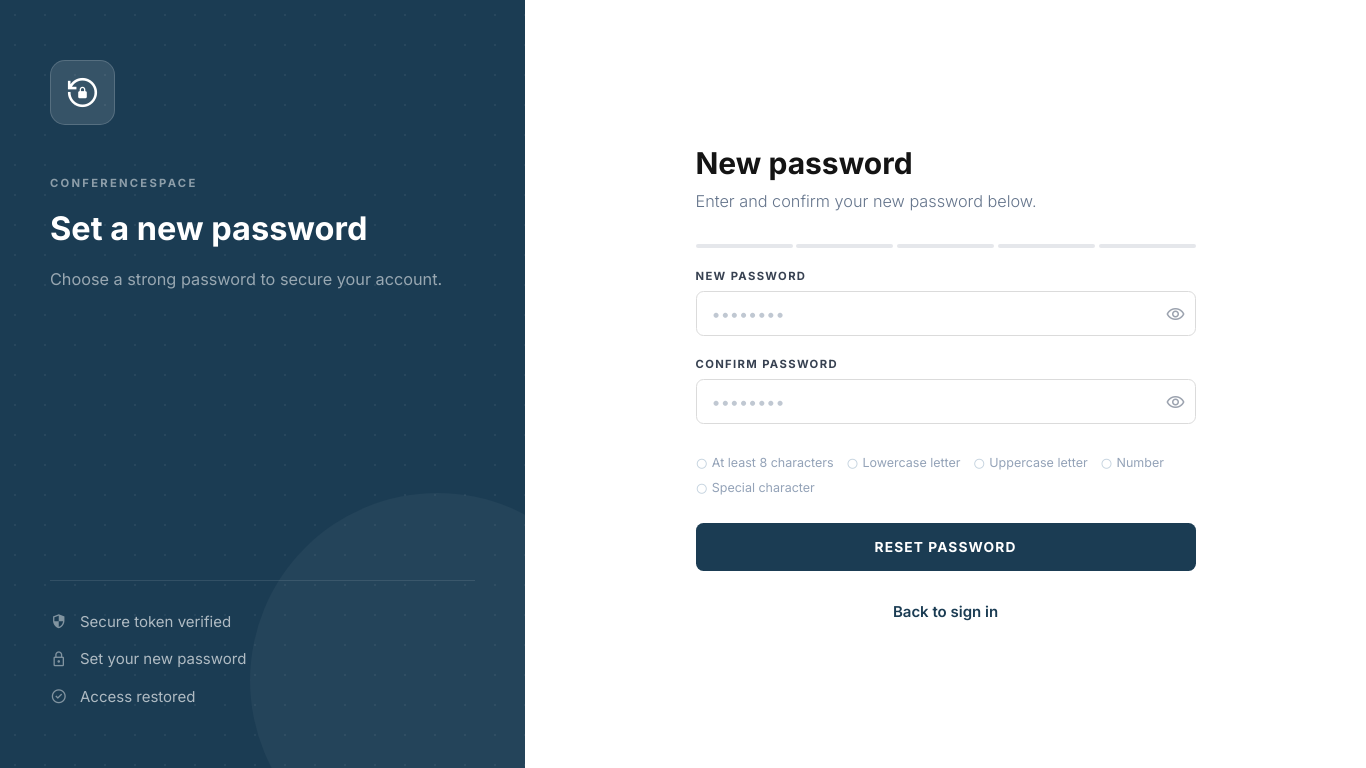
it: ResetPasswordPage › shows error when passwords do not match
Expected: the heading "New password" is shown, [696,145,913,181]
Type "StrongP@ss1" into the password field labelled "New password". click: (946, 314)
box: [696,291,1196,336]
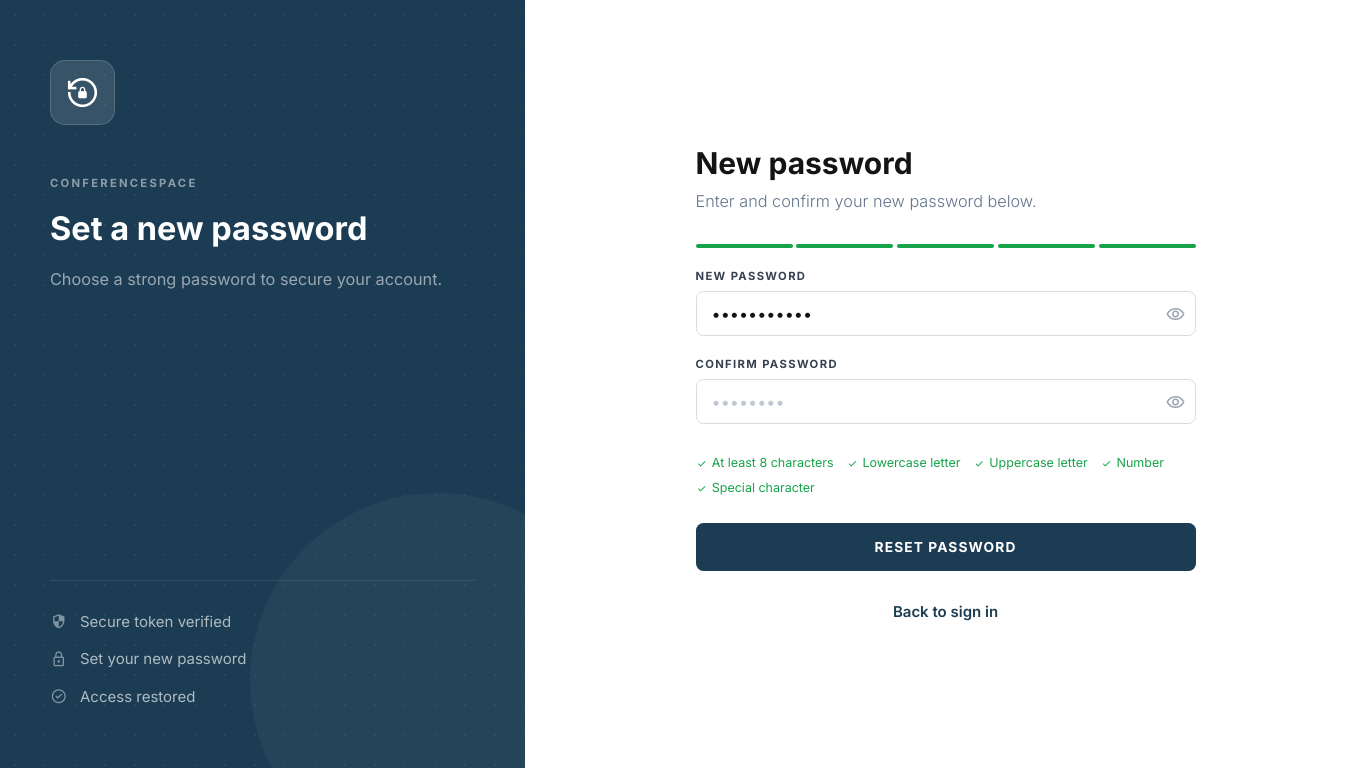
Type "DifferentP@ss1" into the password field labelled "Confirm password". click: (946, 402)
box: [696,379,1196,424]
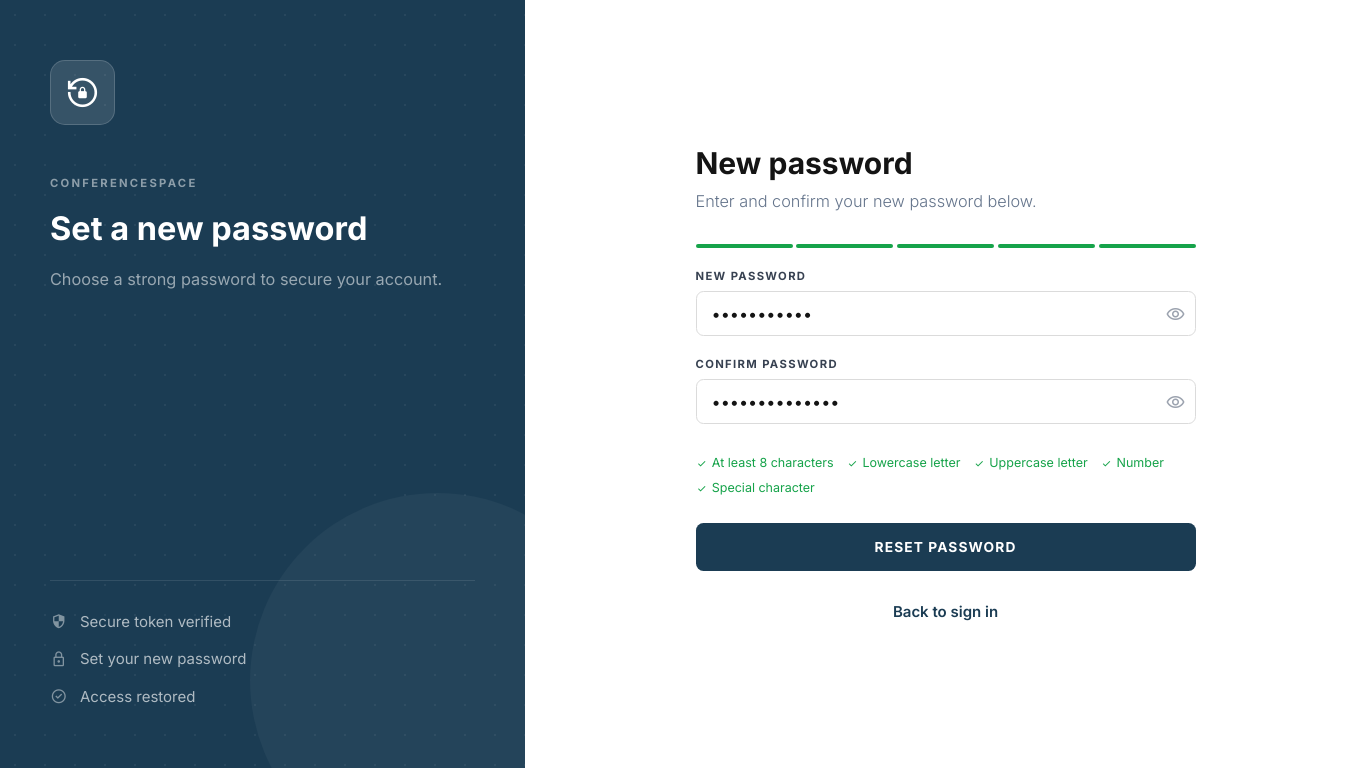
Click the button "Reset password". click: click(946, 547)
box: [696,523,1196,571]
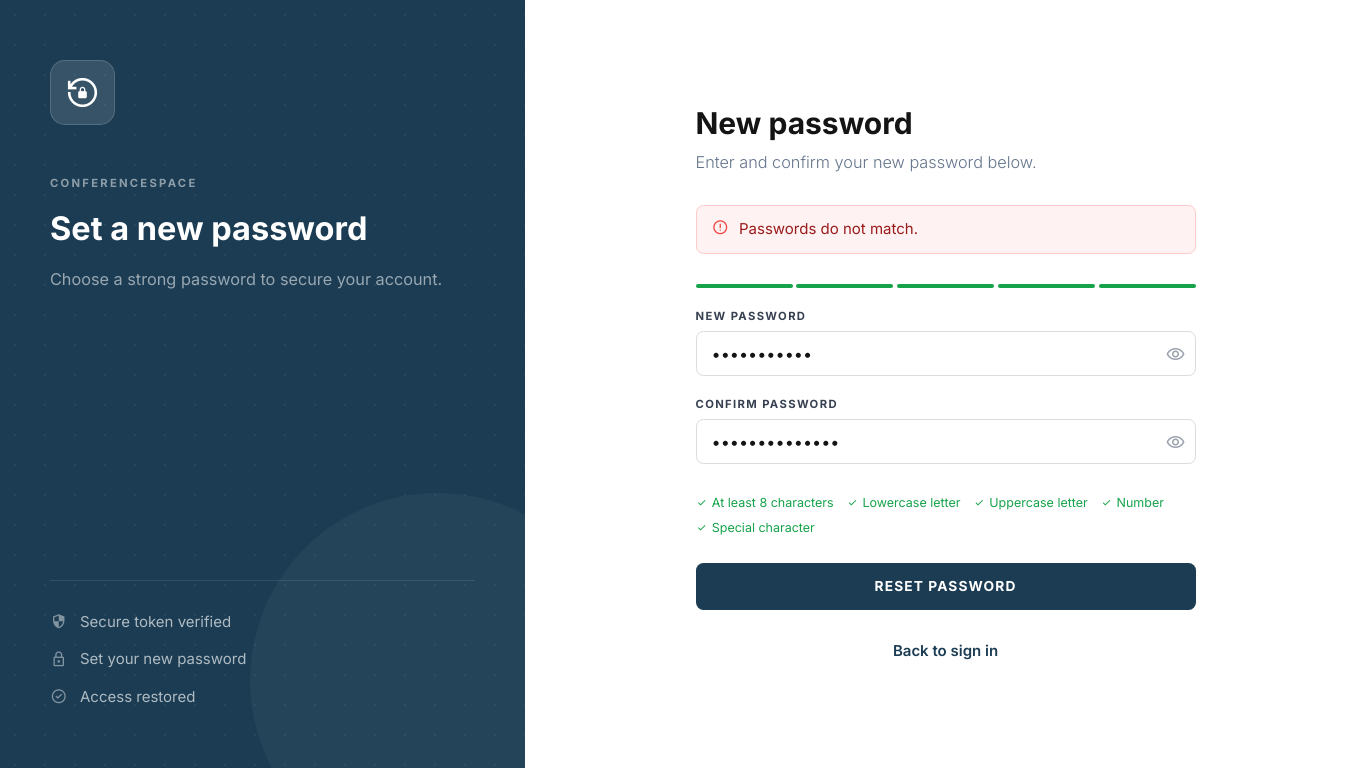
Expected: the text "Passwords do not match." is shown, [739,218,918,241]
